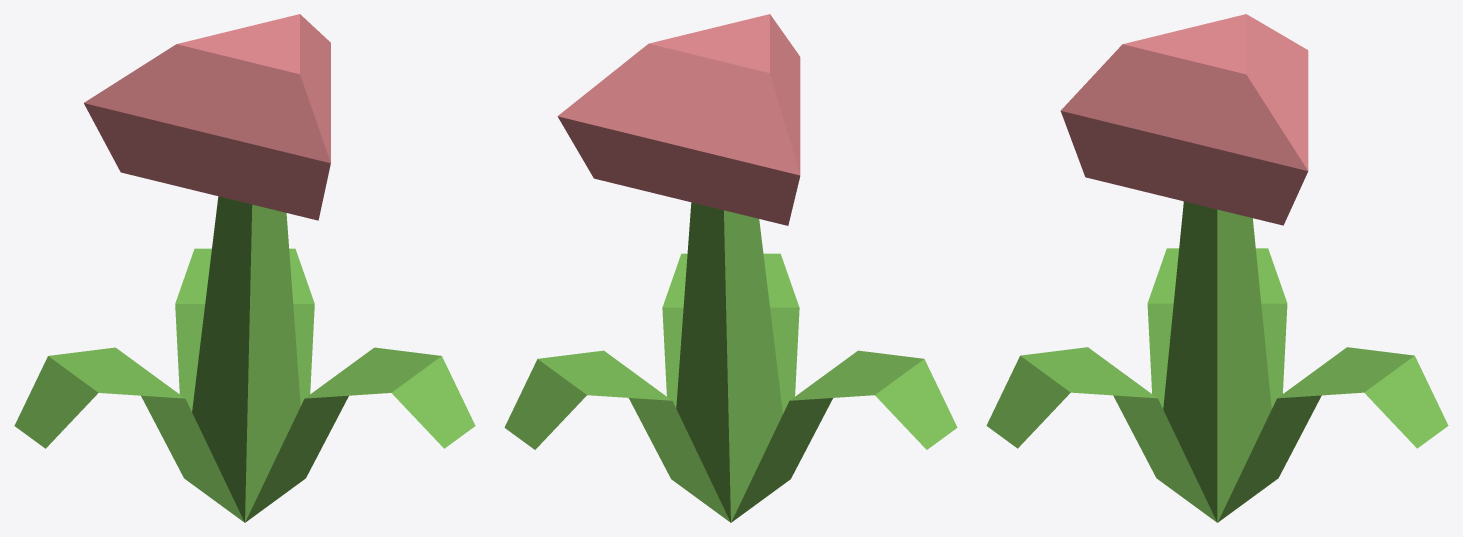
The model's file is flower_redB.glb.
The picture shows the model from 3 angles, left to right: view 1: azimuth 30°, elevation 25°; view 2: azimuth 150°, elevation 25°; view 3: azimuth 270°, elevation 25°; orthographic projection.
Visible parts, largest first — view 1: flower_redB; view 2: flower_redB; view 3: flower_redB.
Part boxes in pixels (x1,y1,x2,y2): flower_redB: [14, 14, 475, 522]; flower_redB: [504, 14, 957, 522]; flower_redB: [986, 14, 1448, 522].
Bounding box in the file's own units: 0.2073 × 0.2585 × 0.2392.
